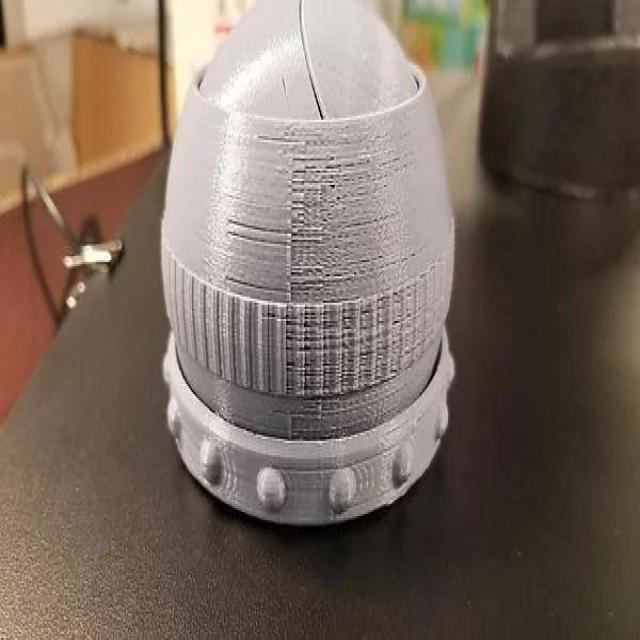spaghetti: (222, 131, 383, 303)
